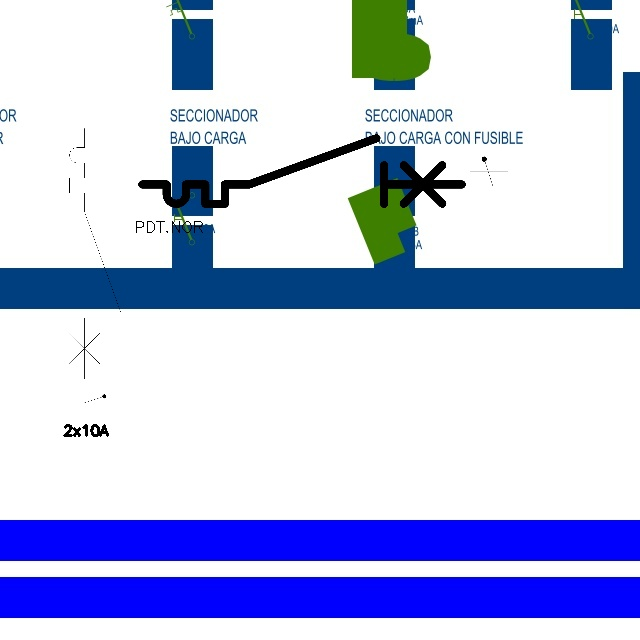interruptor_termomagnetico: (134, 130, 470, 212), (63, 122, 127, 385)
